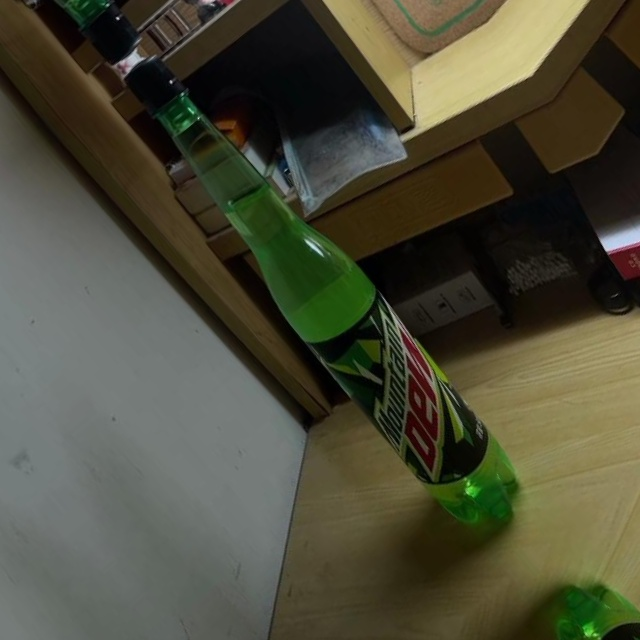Mountain-Dew: (97, 39, 546, 549)
